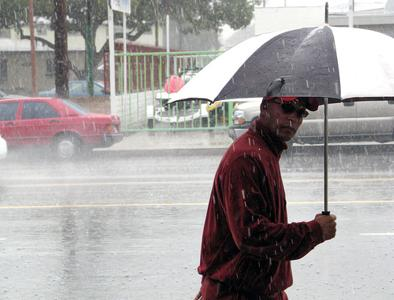person: (196, 95, 337, 300)
